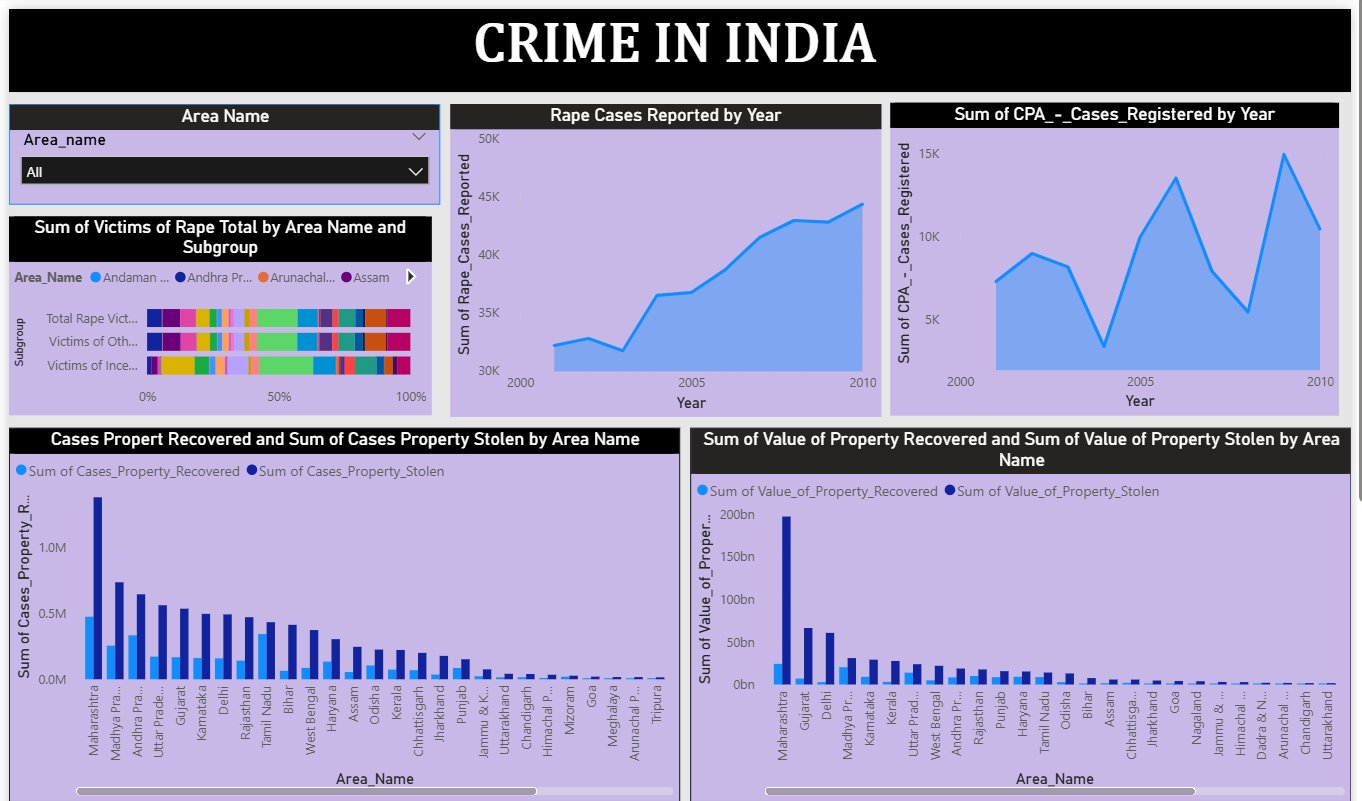

The dashboard page shown, as its layout file describes it:
{"tool":"powerbi","page":{"name":"Page 1","canvas":[1280,1200],"ordinal":0},"visuals":[{"type":"textbox","box":[0,0,1280.3,79.1],"z":0},{"type":"slicer","title":"Area Name","fields":{"Values":["dataset (8).Area_name"]},"box":[0,90.4,411.2,96.1],"z":1000},{"type":"clusteredColumnChart","title":"Cases Propert Recovered and Sum of Cases Property Stolen by Area Name","fields":{"Category":["Property_stolen_and_recovered.Area_Name"],"Y":["Sum(Property_stolen_and_recovered.Cases_Property_Recovered)","Sum(Property_stolen_and_recovered.Cases_Property_Stolen)"]},"box":[0,398.8,640.1,356.8],"z":2000},{"type":"clusteredColumnChart","title":"Sum of Value of Property Recovered and Sum of Value of Property Stolen by Area Name","fields":{"Category":["Property_stolen_and_recovered.Area_Name"],"Y":["Sum(Property_stolen_and_recovered.Value_of_Property_Recovered)","Sum(Property_stolen_and_recovered.Value_of_Property_Stolen)"]},"box":[649.5,398.8,630.7,356.8],"z":3000},{"type":"areaChart","title":"Rape Cases Reported by Year","fields":{"Y":["Sum(Victims_of_rape.Rape_Cases_Reported)"],"Category":["Victims_of_rape.Year"]},"box":[420.8,90.6,411.2,298],"z":4000},{"type":"hundredPercentStackedBarChart","title":"Sum of Victims of Rape Total by Area Name and Subgroup","fields":{"Category":["Victims_of_rape.Subgroup"],"Y":["Sum(Victims_of_rape.Victims_of_Rape_Total)"],"Series":["Victims_of_rape.Area_Name"]},"box":[0,198.3,403,189.9],"z":5000},{"type":"areaChart","fields":{"Y":["Sum(Complaints_against_police.CPA_-_Cases_Registered)"],"Category":["Complaints_against_police.Year"]},"box":[840.4,89.4,427.9,298],"z":6001}]}

Visuals, with their boxes on the page's 1280x1200 design canvas (x1, y1, x2, y2). These are canvas units, not pixel positions in the 1362x801 screenshot, which may show the page scaled, cropped or inside an application window:
textbox: box(0, 0, 1280, 79)
"Area Name" slicer: box(0, 90, 411, 186)
"Cases Propert Recovered and Sum of Cases Property Stolen by Area Name" clusteredColumnChart: box(0, 399, 640, 756)
"Sum of Value of Property Recovered and Sum of Value of Property Stolen by Area Name" clusteredColumnChart: box(650, 399, 1280, 756)
"Rape Cases Reported by Year" areaChart: box(421, 91, 832, 389)
"Sum of Victims of Rape Total by Area Name and Subgroup" hundredPercentStackedBarChart: box(0, 198, 403, 388)
areaChart - Sum(Complaints_against_police.CPA_-_Cases_Registered) x Complaints_against_police.Year: box(840, 89, 1268, 387)
